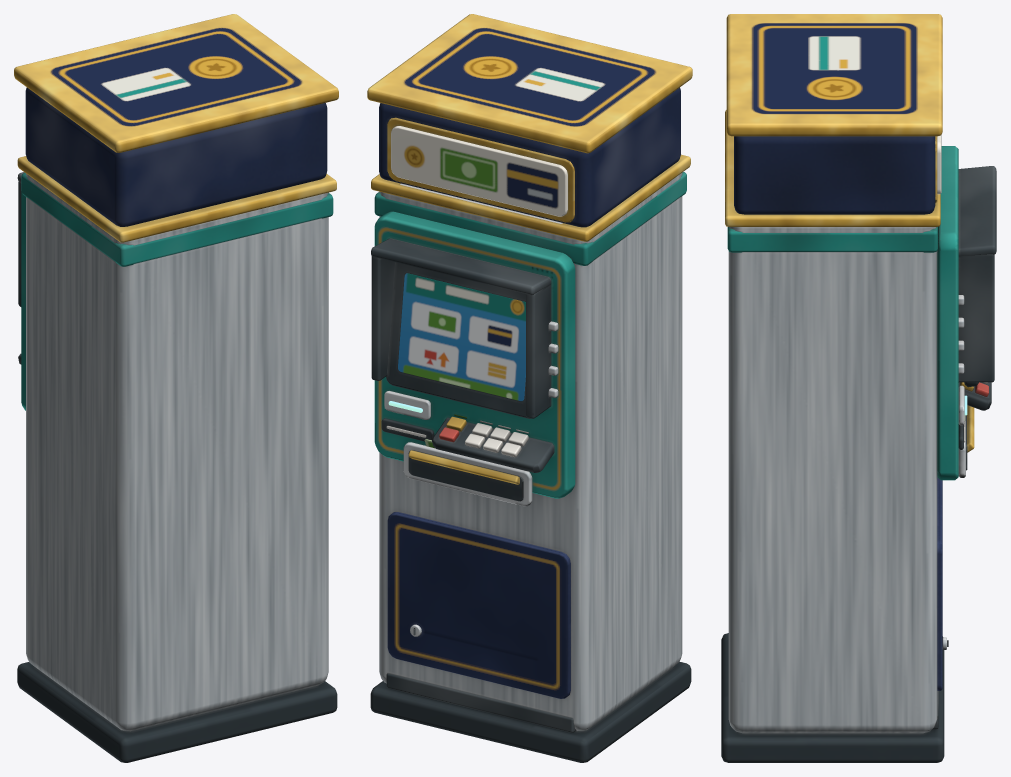
File: atm.fbx
3 renders of one model, left to right at view 1: azimuth 30°, elevation 25°; view 2: azimuth 150°, elevation 25°; view 3: azimuth 270°, elevation 25°, orthographic. The views are drawn at different scales.
Parts seen in each view (by area): view 1: Body; view 2: Body; view 3: Body.
Part boxes in pixels (bbox=[...]): Body: bbox=[14, 14, 338, 762]; Body: bbox=[367, 14, 692, 762]; Body: bbox=[721, 14, 996, 762].
Bounding box in the file's own units: 0.74 × 1.97 × 0.7652.
